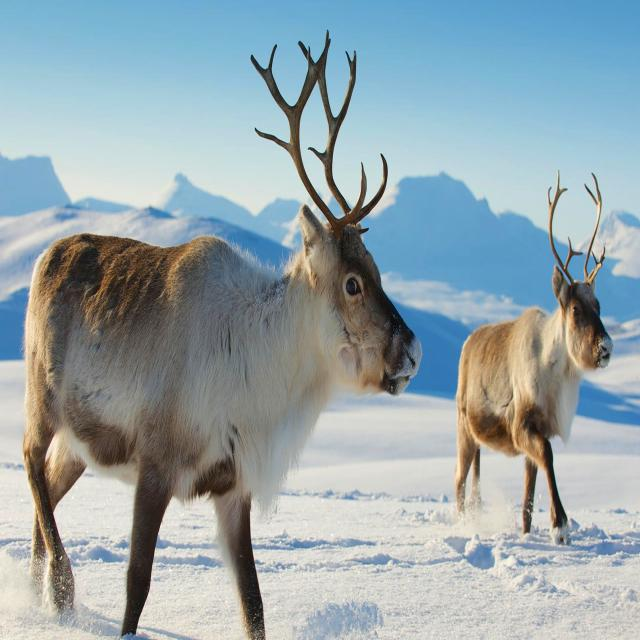reindeer: (23, 32, 422, 639), (455, 171, 613, 543)
